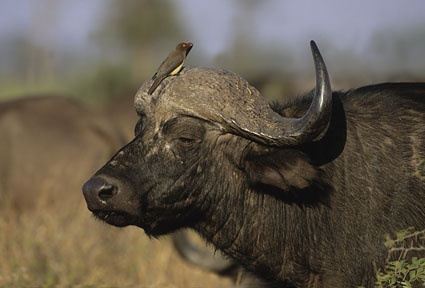buffalo: (82, 39, 425, 286)
